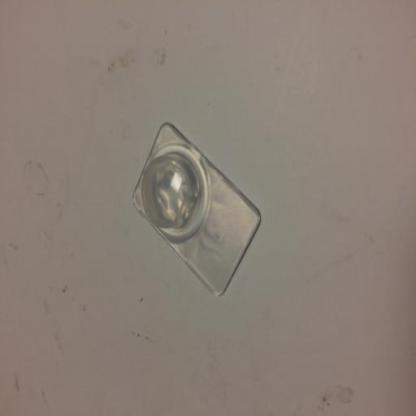trash: (131, 122, 263, 297)
